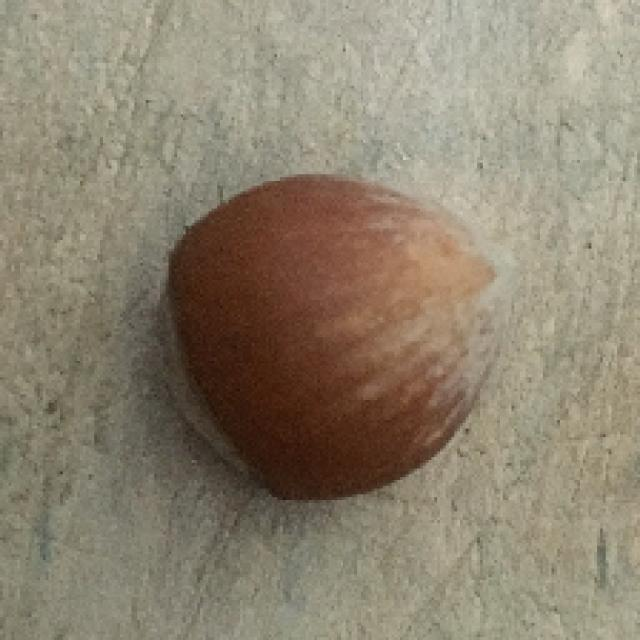qualityHazelnut: (156, 169, 511, 506)
